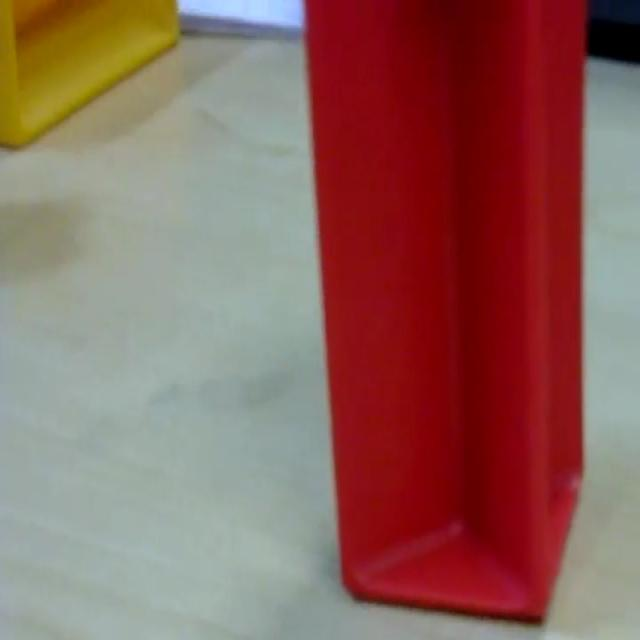red_block: (301, 0, 588, 623)
yellow_block: (1, 0, 180, 148)
